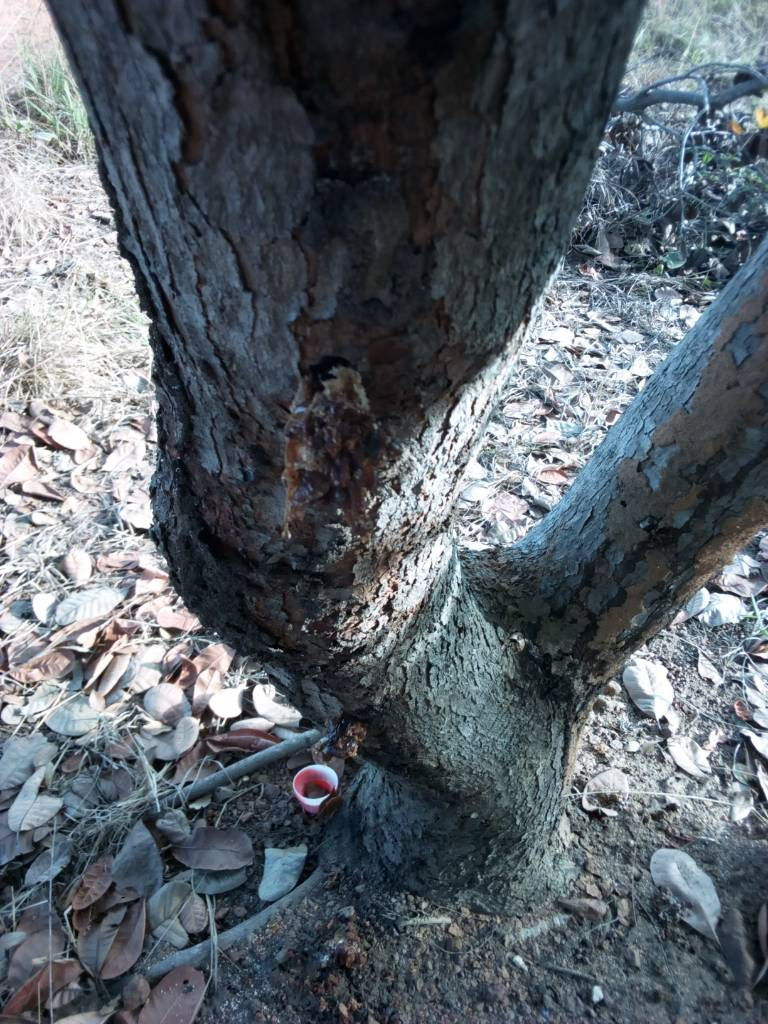Apate terebrans: (218, 327, 521, 608)
